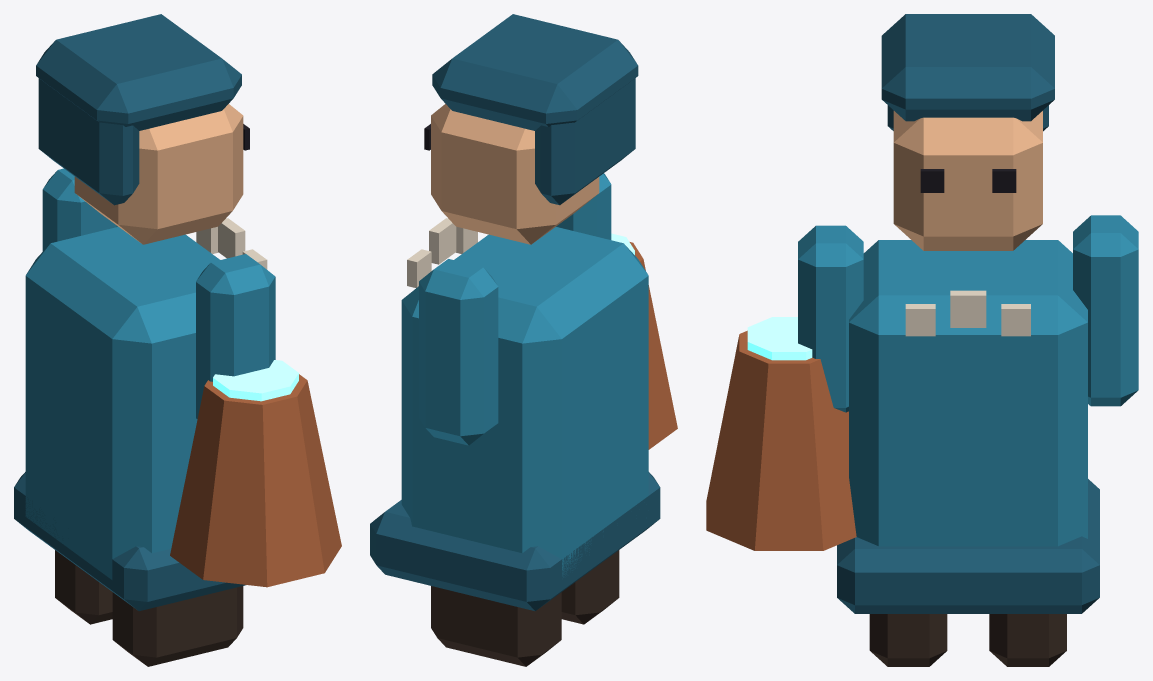
Rendered from tidecaller.glb.
3 renders of one model, left to right at view 1: azimuth 30°, elevation 25°; view 2: azimuth 150°, elevation 25°; view 3: azimuth 270°, elevation 25°, orthographic. The views are drawn at different scales.
Parts seen in each view (by area): view 1: tidecaller; view 2: tidecaller; view 3: tidecaller.
Boxes of the visible parts, bbox=[...] form: tidecaller: bbox=[14, 14, 341, 666]; tidecaller: bbox=[370, 14, 677, 666]; tidecaller: bbox=[706, 14, 1138, 666].
Size of the model in its own units: 0.365 by 1.11 by 0.7236.
